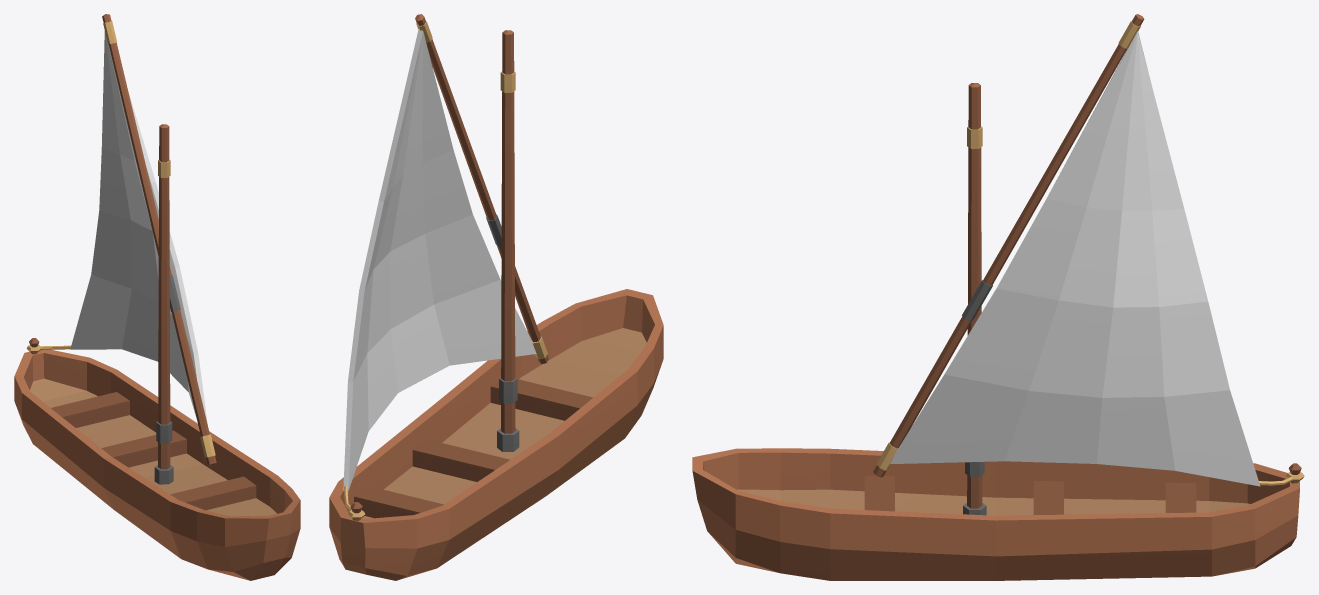
File: sailboat-4.glb
The picture shows the model from 3 angles, left to right: view 1: azimuth 30°, elevation 25°; view 2: azimuth 150°, elevation 25°; view 3: azimuth 270°, elevation 25°; orthographic projection. The views are drawn at different scales.
Parts seen in each view (by area): view 1: sailboat 4; view 2: sailboat 4; view 3: sailboat 4.
Part boxes in pixels (left/top/right/bottom): sailboat 4: left=14, top=14, right=300, bottom=580; sailboat 4: left=329, top=14, right=663, bottom=580; sailboat 4: left=692, top=14, right=1304, bottom=580.
Size of the model in its own units: 1.69 by 6.79 by 6.76.
1 material, 1 textured.
